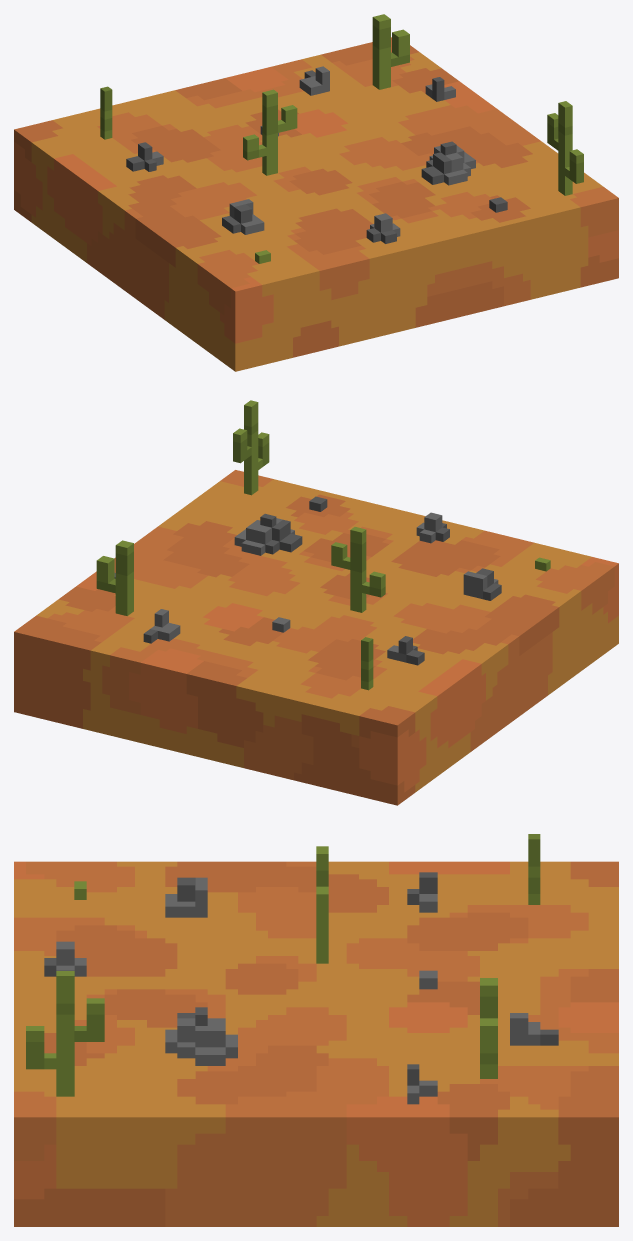
Rendered from Desert.obj.
3 views of the same model, one above another, from view 1: azimuth 30°, elevation 25°; view 2: azimuth 150°, elevation 25°; view 3: azimuth 270°, elevation 25° (orthographic). The views are drawn at different scales.
Size of the model in its own units: 10 by 4.2 by 10.
